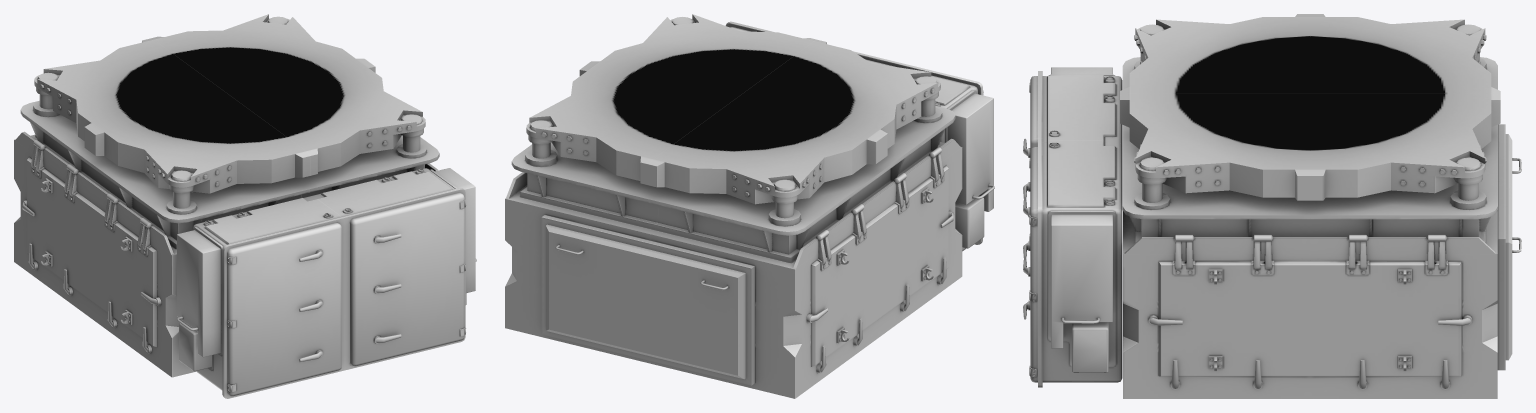
Rendered from ciws_body.obj.
The picture shows the model from 3 angles, left to right: view 1: azimuth 30°, elevation 25°; view 2: azimuth 150°, elevation 25°; view 3: azimuth 270°, elevation 25°; orthographic projection. The views are drawn at different scales.
Visible parts, largest first — view 1: Stand; view 2: Stand; view 3: Stand.
Boxes of the visible parts, left/top/right/bottom form: Stand: left=14, top=14, right=476, bottom=398; Stand: left=505, top=14, right=994, bottom=398; Stand: left=1023, top=14, right=1521, bottom=398.
Size of the model in its own units: 2.05 by 1.26 by 2.51.
1 material, 1 textured.
